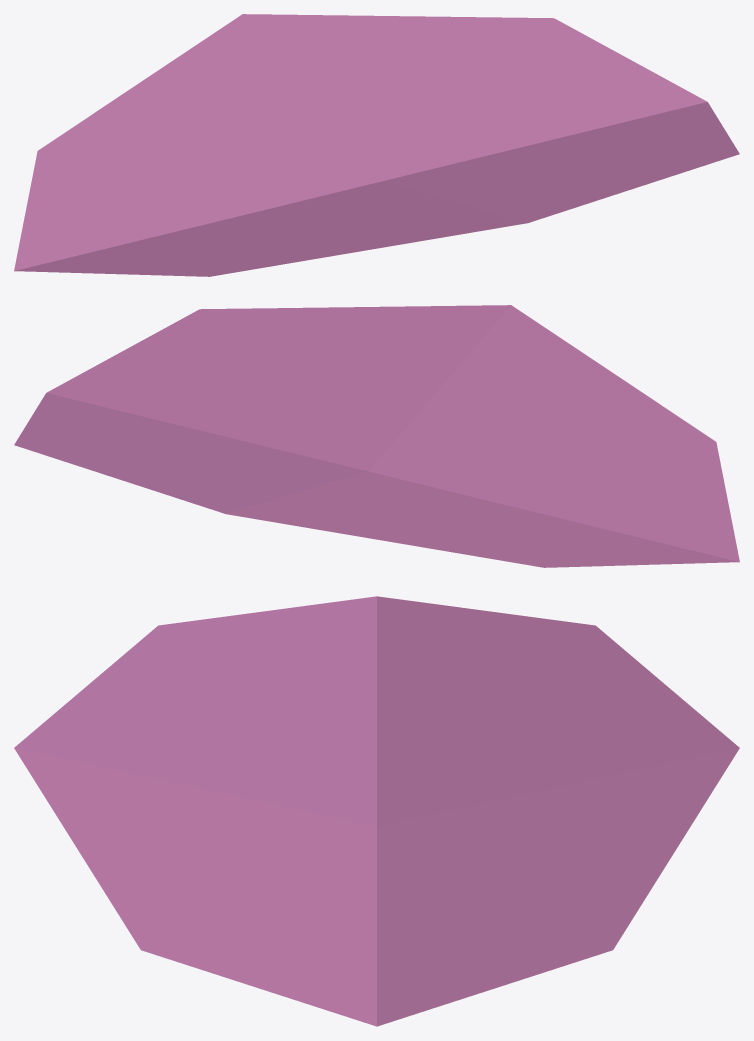
Rendered from SacuraLead.fbx.
3 renders of one model, top to bottom at view 1: azimuth 30°, elevation 25°; view 2: azimuth 150°, elevation 25°; view 3: azimuth 270°, elevation 25°, orthographic. The views are drawn at different scales.
Visible parts, largest first — view 1: Leaf.001; view 2: Leaf.001; view 3: Leaf.001.
Part boxes in pixels (bbox=[...]): Leaf.001: bbox=[14, 14, 739, 276]; Leaf.001: bbox=[14, 305, 739, 567]; Leaf.001: bbox=[14, 596, 739, 1026].
Bounding box in the file's own units: 265 × 22.61 × 189.
